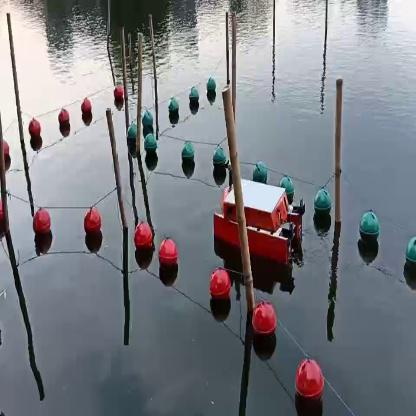green_buoy: (360, 210, 381, 244), (312, 191, 332, 225), (211, 148, 226, 178), (182, 142, 196, 171), (405, 235, 415, 274), (146, 132, 158, 158), (203, 71, 214, 99), (252, 157, 266, 177), (142, 115, 154, 138), (189, 88, 199, 113), (167, 98, 178, 120), (281, 178, 293, 197), (129, 127, 137, 146)
red_buoy: (251, 303, 277, 344), (296, 365, 322, 401), (208, 272, 232, 308), (132, 225, 154, 260), (82, 210, 102, 242), (160, 244, 176, 275), (35, 207, 50, 239), (28, 120, 43, 145), (58, 109, 69, 133), (82, 101, 93, 120), (2, 138, 10, 164), (115, 84, 124, 104)
